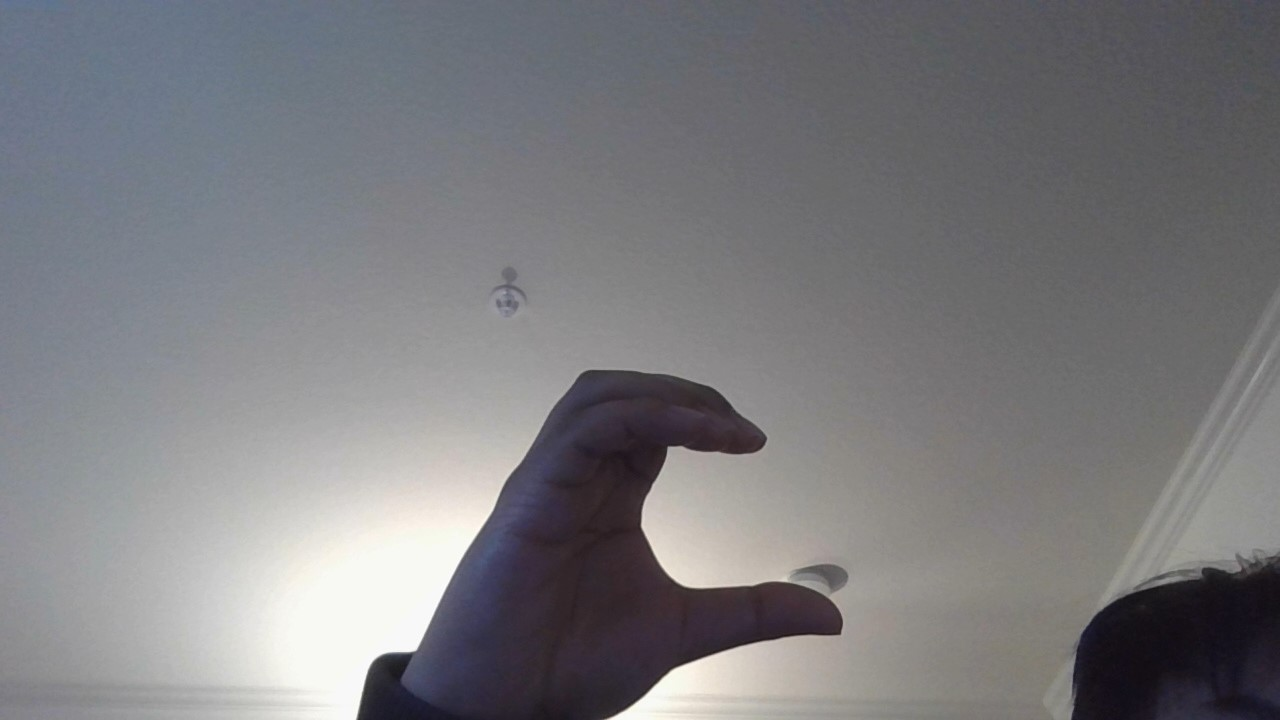c: (349, 350, 864, 720)
